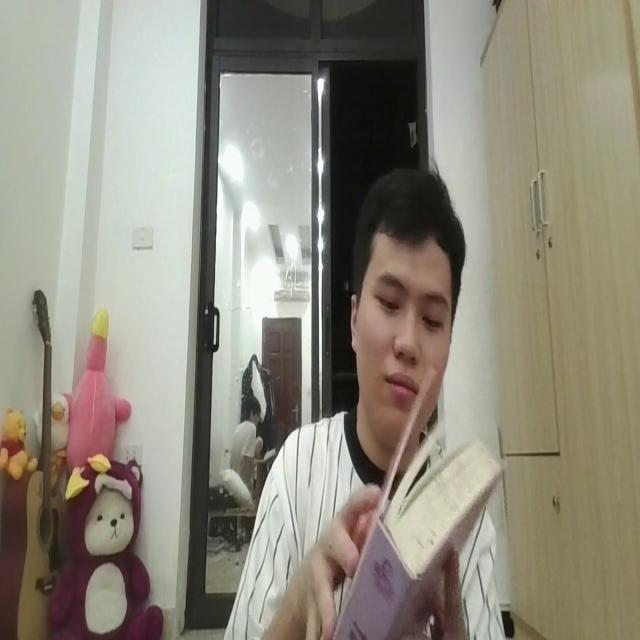book: (361, 368, 507, 627)
student: (232, 163, 515, 640)
